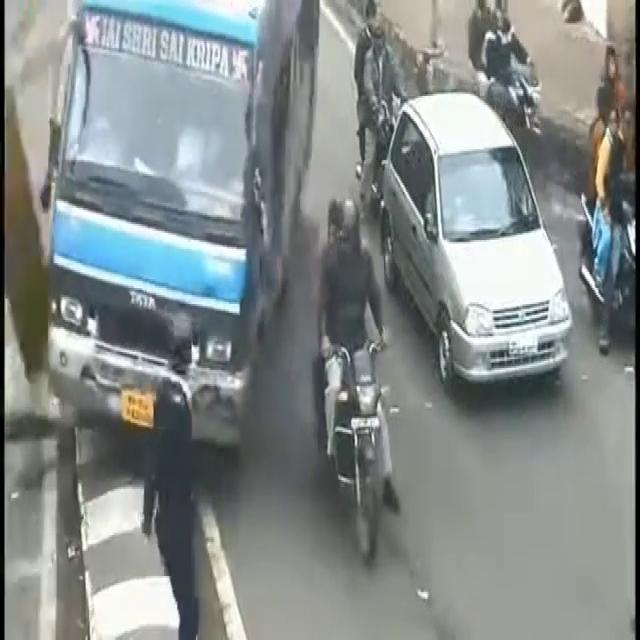accident: (36, 0, 293, 558)
